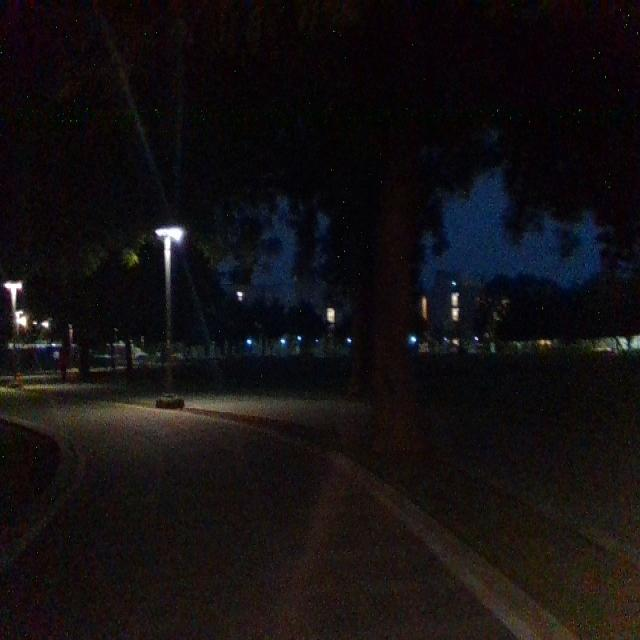lane: (5, 405, 524, 640)
